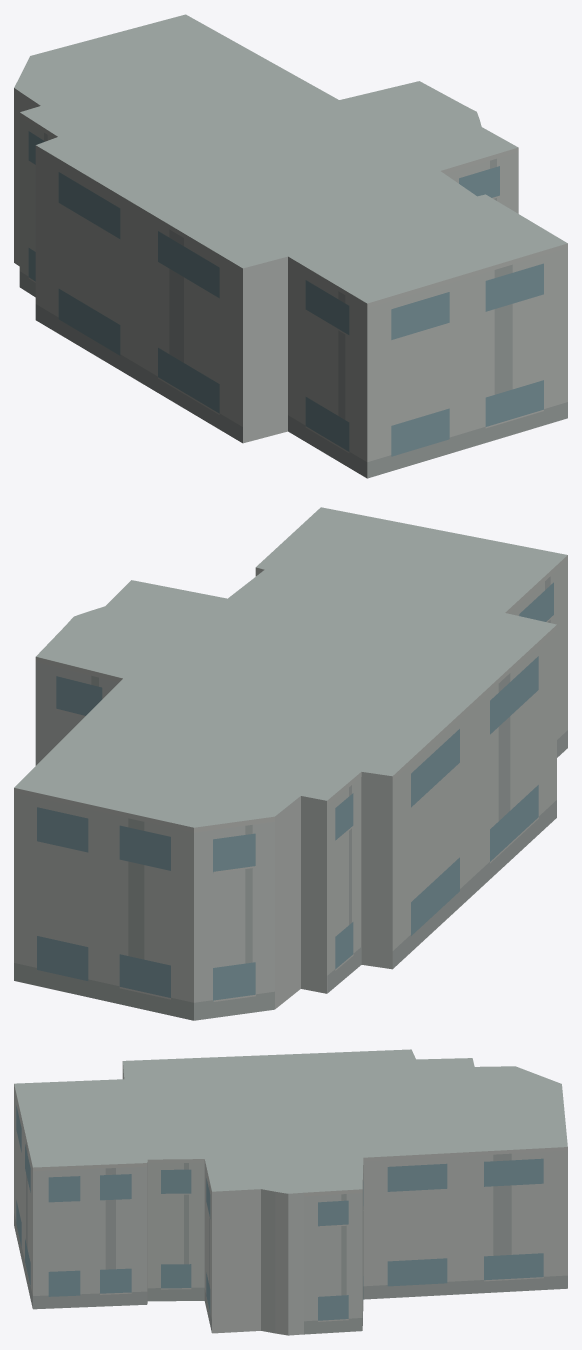
The model's file is survey-upis-32634488.glb.
3 renders of one model, top to bottom at view 1: azimuth 30°, elevation 25°; view 2: azimuth 150°, elevation 25°; view 3: azimuth 270°, elevation 25°, orthographic. The views are drawn at different scales.
Parts seen in each view (by area): view 1: survey-upis-32634488.tmp; view 2: survey-upis-32634488.tmp; view 3: survey-upis-32634488.tmp.
Part boxes in pixels (left/top/right/bottom): survey-upis-32634488.tmp: left=14, top=14, right=567, bottom=478; survey-upis-32634488.tmp: left=14, top=507, right=567, bottom=1020; survey-upis-32634488.tmp: left=14, top=1049, right=567, bottom=1335.
Size of the model in its own units: 19.99 by 9.15 by 32.4.
